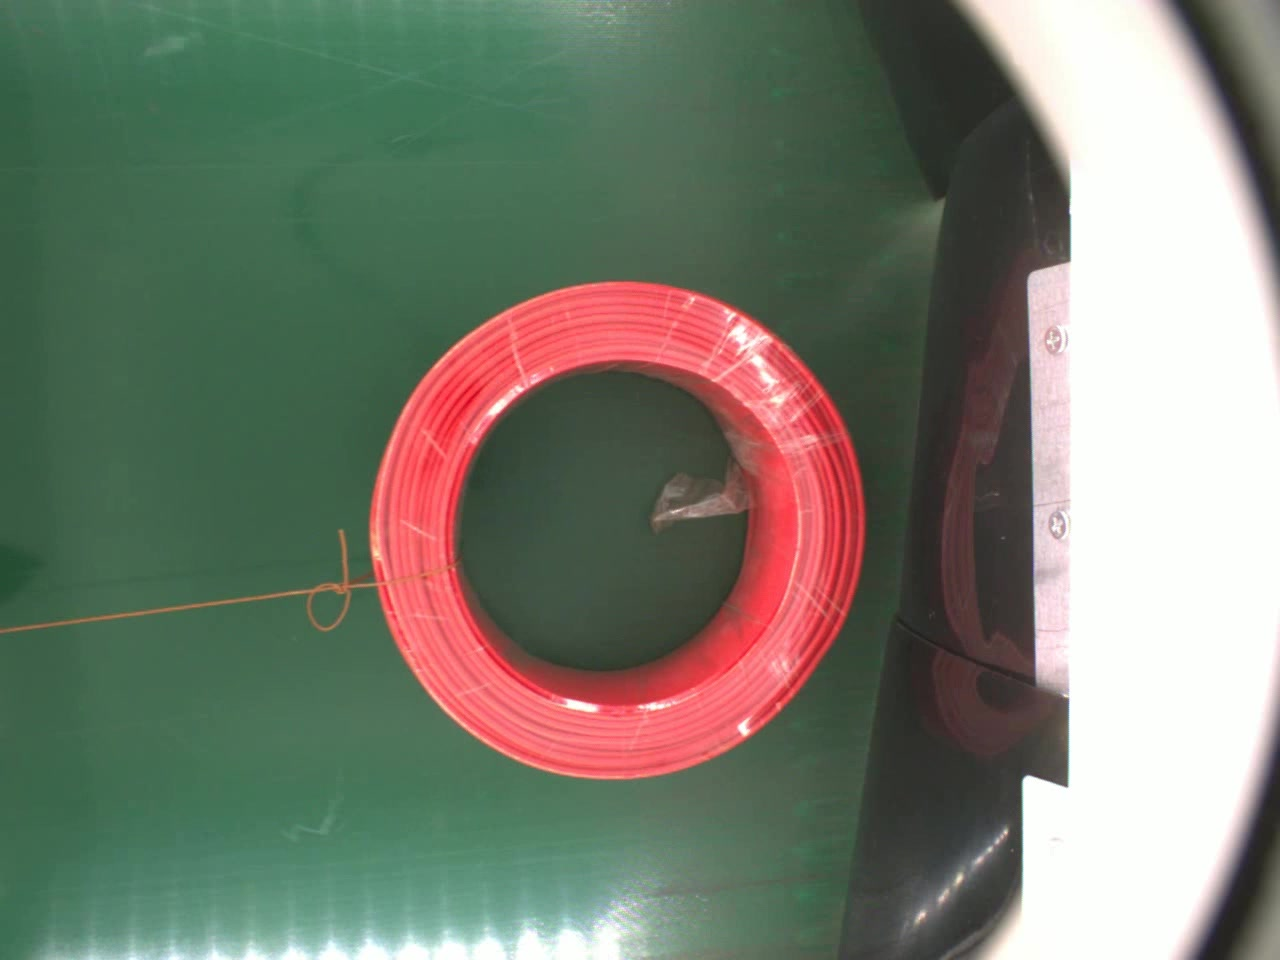red: (367, 277, 859, 782)
